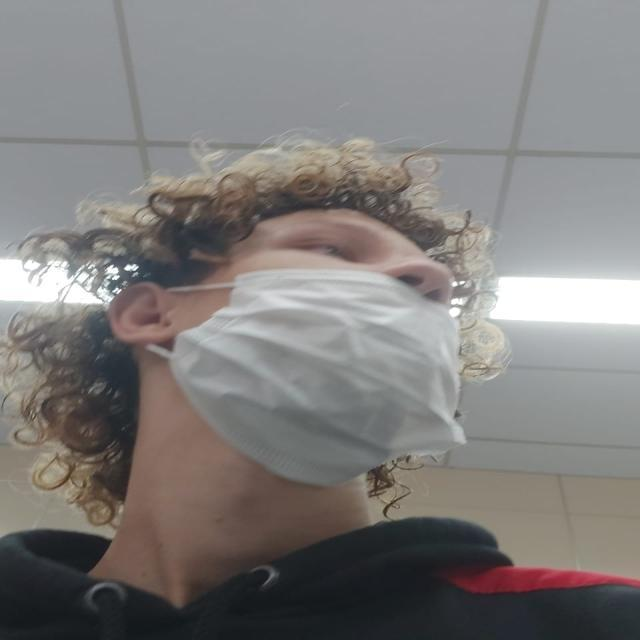hairnet: (254, 216, 491, 463)
